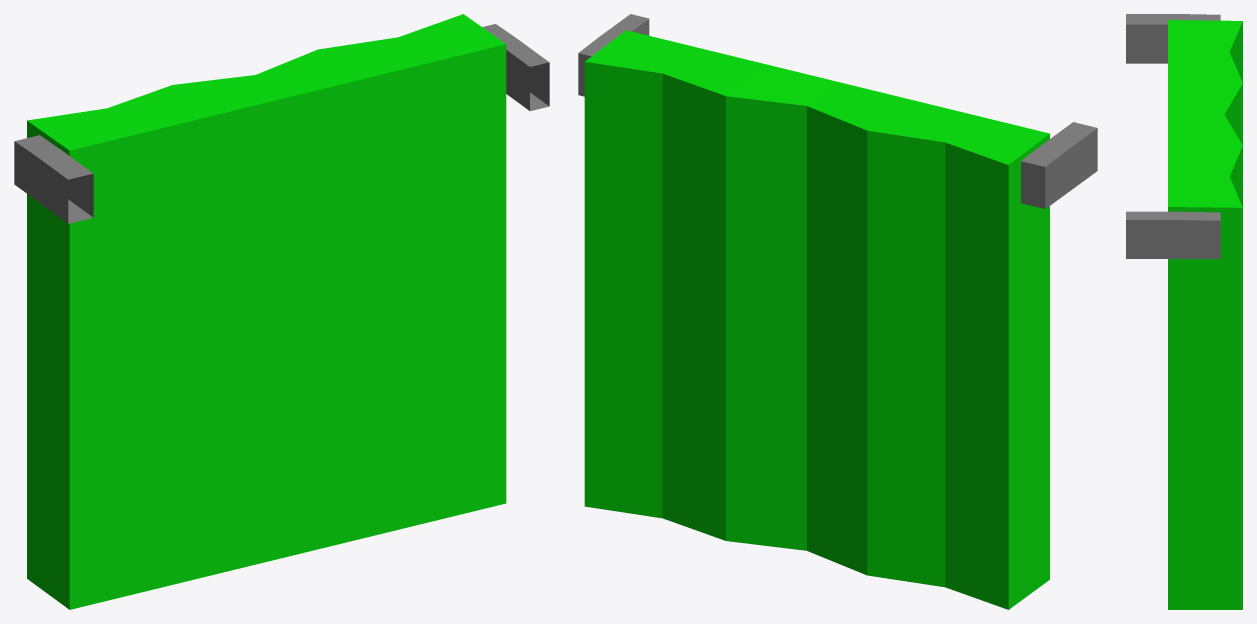
The model's file is pyyheteline_green.FBX.
3 views of the same model, side by side, from view 1: azimuth 30°, elevation 25°; view 2: azimuth 150°, elevation 25°; view 3: azimuth 270°, elevation 25° (orthographic). The views are drawn at different scales.
Parts seen in each view (by area): view 1: pyyheteline_green; view 2: pyyheteline_green; view 3: pyyheteline_green.
Part boxes in pixels (box(x1,y1,x2,y2)): pyyheteline_green: box(14, 14, 549, 609); pyyheteline_green: box(578, 14, 1097, 609); pyyheteline_green: box(1126, 14, 1242, 609).
Size of the model in its own units: 94.46 by 86.16 by 22.64.
